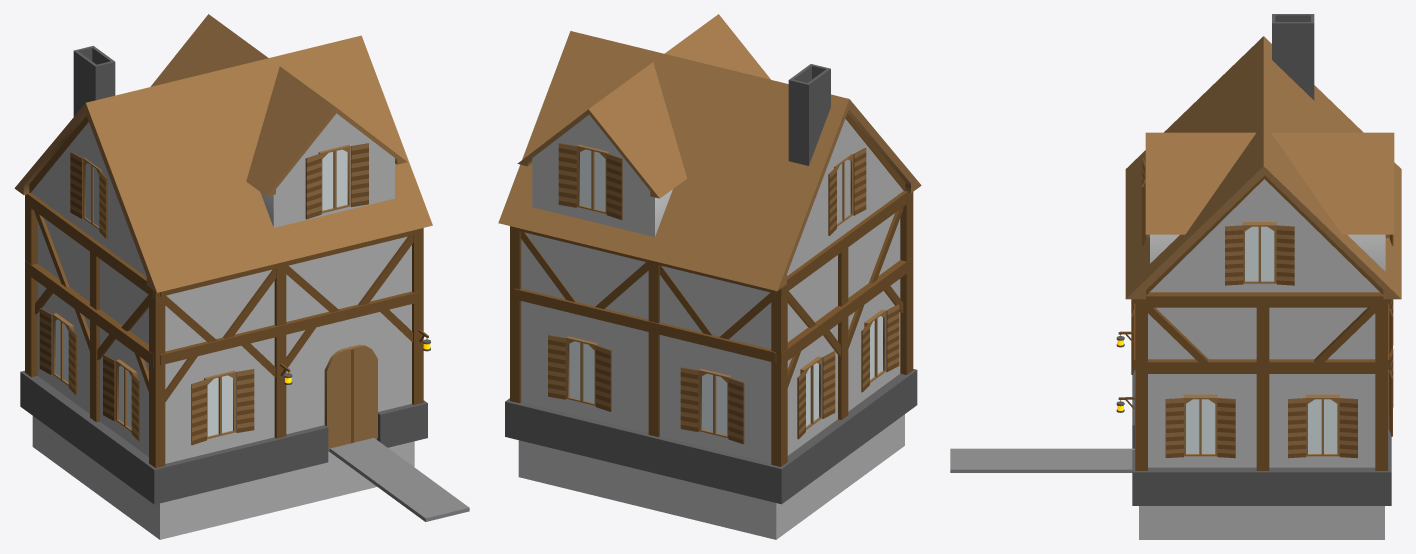
The model's file is uploads_files_722444_low+poly+house2.dae.
3 renders of one model, left to right at view 1: azimuth 30°, elevation 25°; view 2: azimuth 150°, elevation 25°; view 3: azimuth 270°, elevation 25°, orthographic. The views are drawn at different scales.
Visible parts, largest first — view 1: Null.1; view 2: Null.1; view 3: Null.1.
Boxes of the visible parts, x1,y1,x2,y2 form: Null.1: (14,14,469,539); Null.1: (498,14,921,539); Null.1: (950,14,1401,539).
Size of the model in its own units: 91.47 by 133 by 134.
